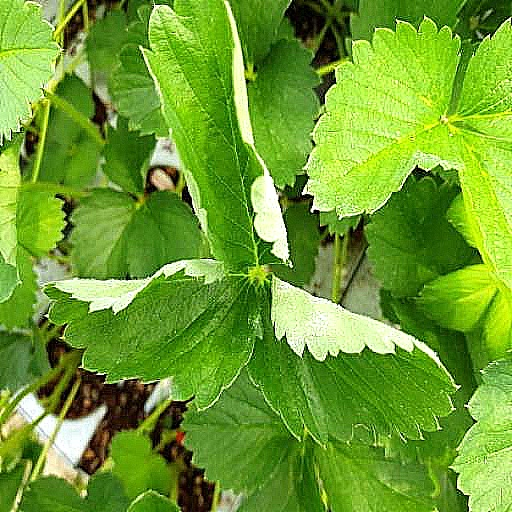Powdery Mildew Leaf: (221, 0, 374, 273), (50, 273, 269, 451), (249, 257, 470, 412)
